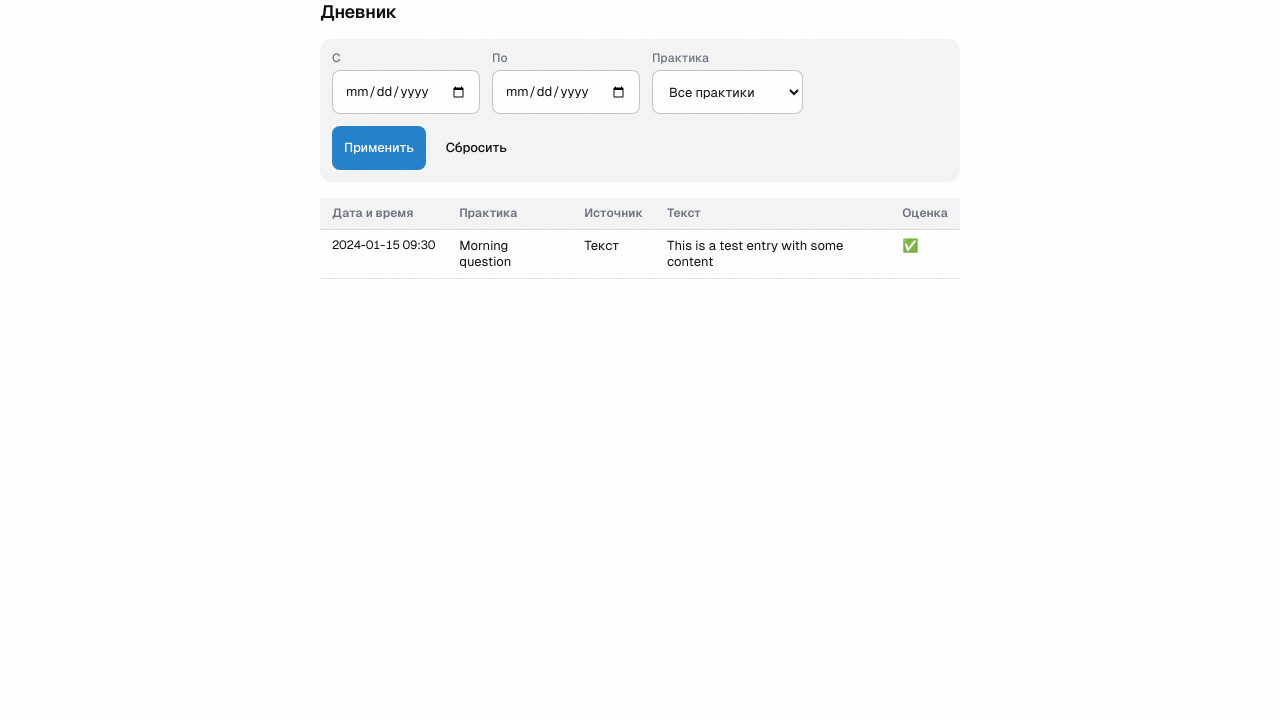
Scenario: JournalView › opens detail modal when row is clicked
Click the row with class "clickable-row" at (640,254), box [320, 230, 960, 278]
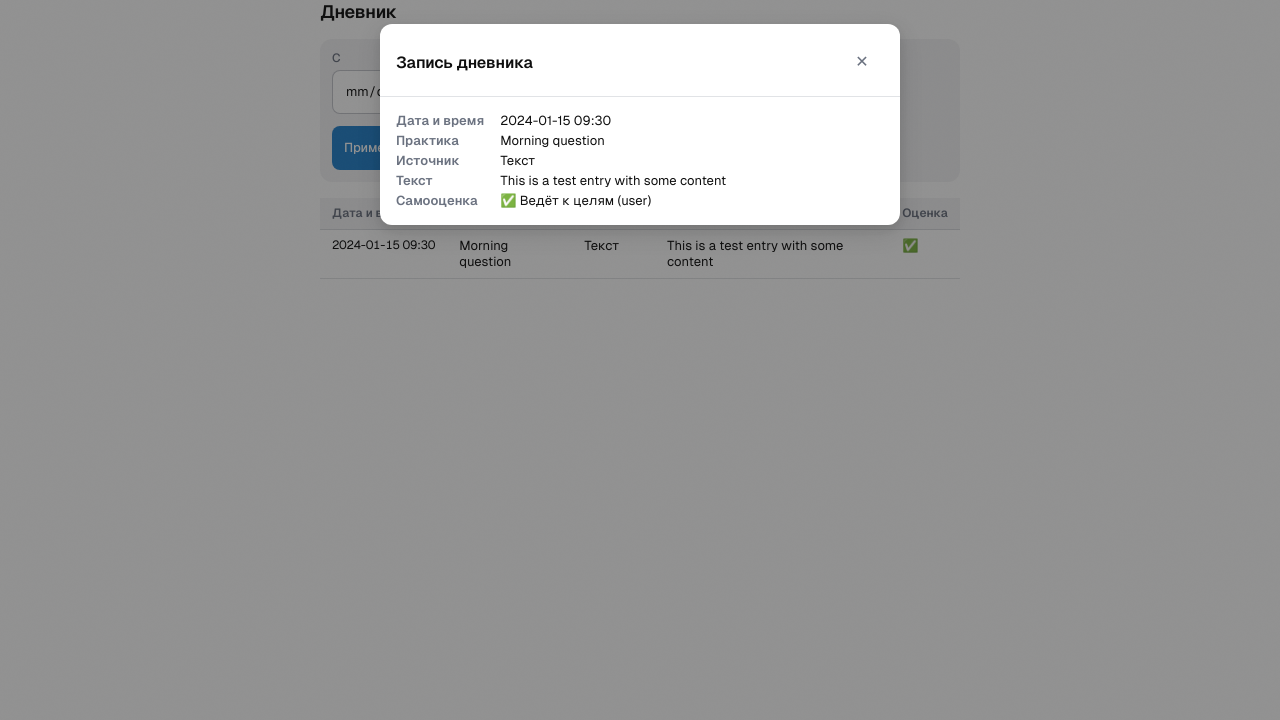
Now the element with class "modal" is shown, box [380, 24, 900, 225]
Now the element with class "modal" shows "This is a test entry with some content", box [500, 173, 726, 188]
Now the element with class "modal" shows "Morning question", box [500, 133, 605, 148]
